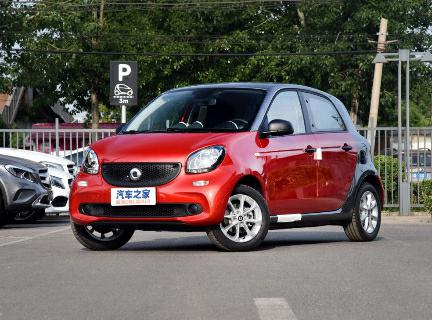smart-forfour: (61, 83, 390, 258)
